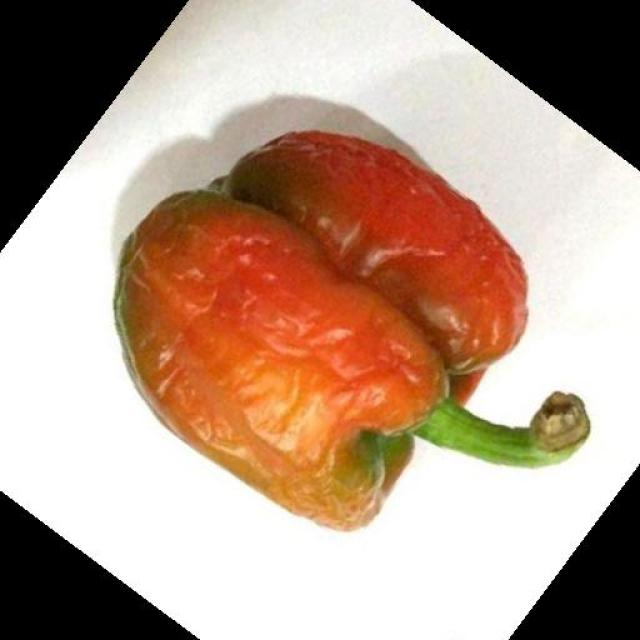Stale_Capsicum: (98, 117, 600, 512)
